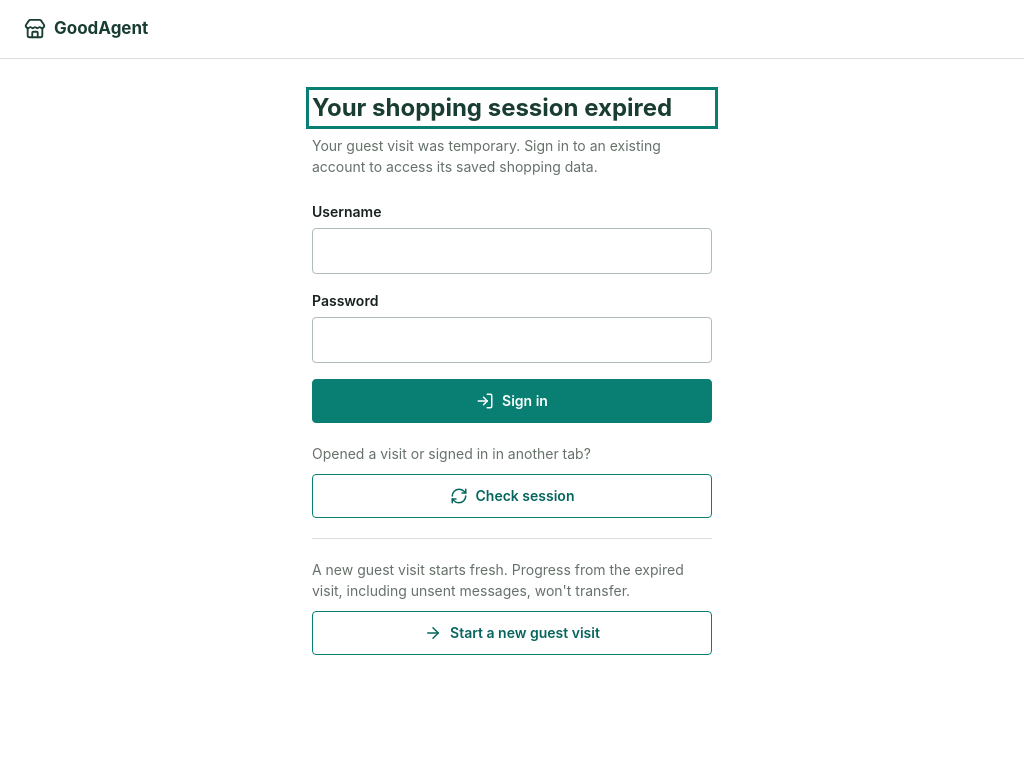
Test: SessionRecovery › uses only the finite local conflict type, not message matching ({"reason":"guest_conflict"})
The width and height of the screenshot is (1024, 768).
Click the button "Start a new guest visit": (512, 633) x1=312 y1=611 x2=712 y2=655
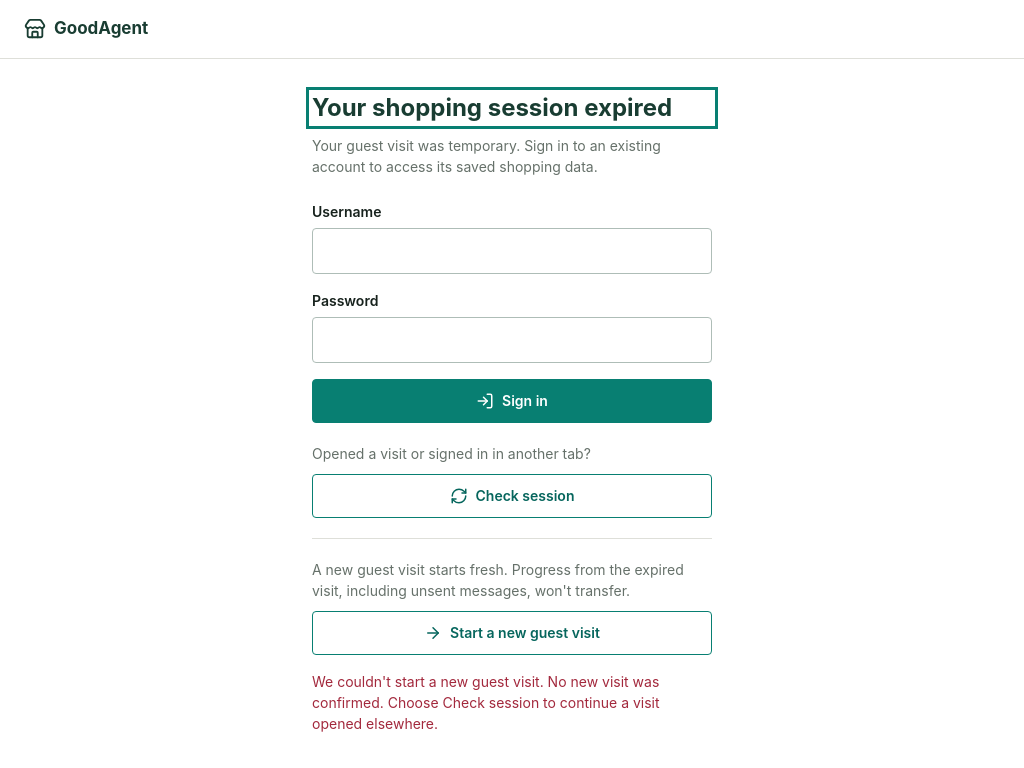
Expected: the message shows "No new visit was confirmed. Choose Check session", x1=312 y1=673 x2=660 y2=732
